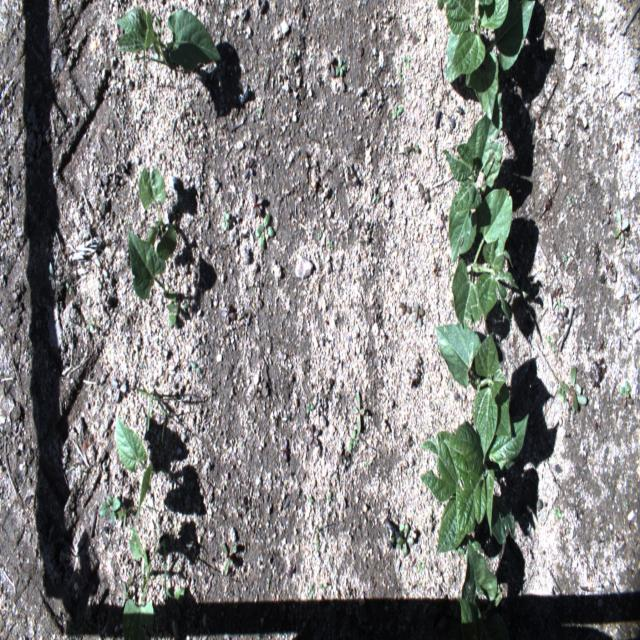crop: (420, 412, 529, 557), (434, 322, 512, 464), (445, 0, 536, 121), (442, 92, 504, 264), (451, 188, 516, 332), (114, 6, 221, 72), (458, 538, 510, 639), (115, 415, 154, 522), (122, 524, 154, 639), (139, 167, 177, 263), (127, 225, 167, 300)
weed: (131, 376, 182, 432), (143, 537, 168, 600), (559, 366, 588, 414), (152, 389, 169, 444), (456, 532, 482, 564), (164, 584, 185, 622), (254, 211, 275, 249), (510, 275, 531, 313), (100, 492, 122, 527), (524, 480, 545, 516), (613, 208, 631, 248), (396, 522, 414, 557), (220, 541, 237, 577), (167, 303, 189, 330), (351, 390, 364, 435), (112, 374, 128, 403), (412, 300, 426, 328), (418, 179, 432, 204), (220, 305, 236, 326), (325, 50, 336, 79), (252, 192, 264, 218), (308, 422, 320, 448), (346, 428, 358, 453), (557, 306, 570, 329), (243, 156, 255, 179), (122, 572, 132, 599), (404, 141, 422, 156), (390, 102, 404, 121), (116, 507, 127, 531), (100, 418, 112, 440), (334, 58, 347, 78), (618, 392, 634, 408), (48, 261, 56, 292), (619, 380, 632, 399), (545, 334, 556, 354), (619, 293, 631, 311), (162, 288, 177, 302), (604, 256, 614, 277), (222, 210, 233, 229), (280, 439, 288, 464), (399, 300, 412, 315), (604, 200, 612, 224), (85, 314, 95, 332), (595, 358, 606, 374), (433, 559, 442, 578), (557, 387, 566, 404), (190, 361, 201, 374), (591, 240, 599, 256), (402, 54, 410, 70), (554, 506, 563, 520), (436, 0, 448, 10), (305, 402, 314, 415), (544, 197, 553, 210), (596, 337, 604, 351), (64, 281, 73, 293), (308, 584, 314, 601), (287, 566, 295, 578), (326, 491, 332, 506), (598, 4, 604, 19), (328, 238, 334, 250), (307, 495, 314, 504), (317, 228, 322, 240), (562, 253, 568, 263), (593, 420, 598, 432), (364, 461, 371, 468), (266, 578, 270, 590), (625, 499, 628, 510)
